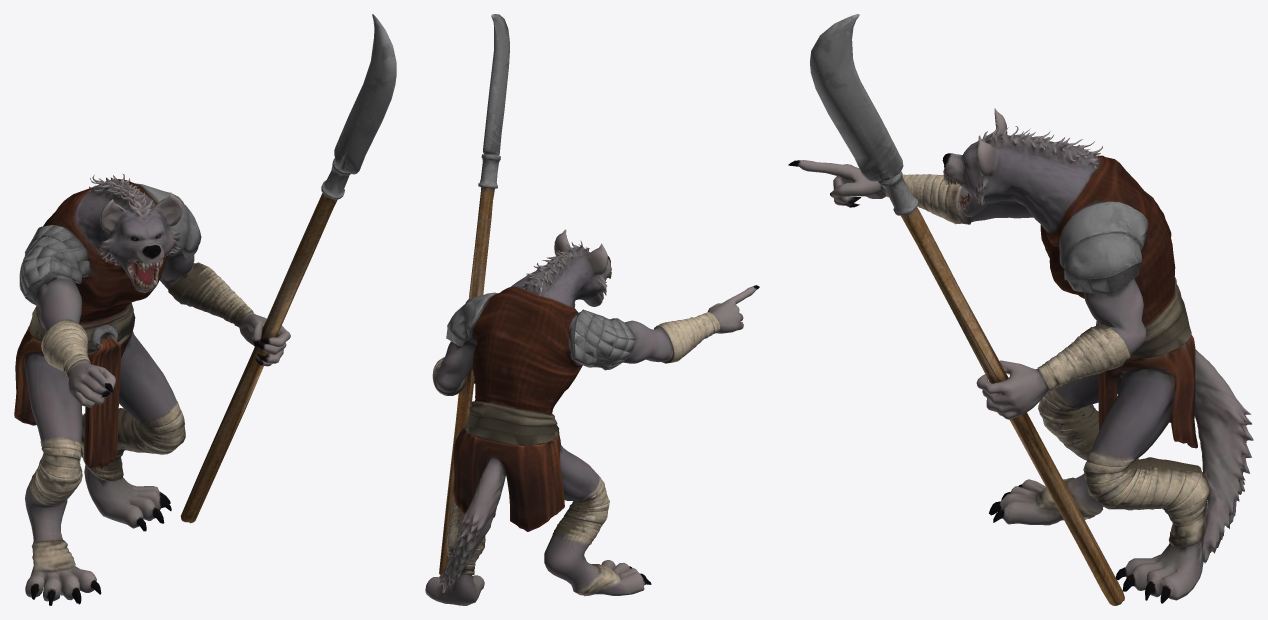
Rendered from MZ4250 - Gnoll Pack Lord.glb.
3 renders of one model, left to right at view 1: azimuth 30°, elevation 25°; view 2: azimuth 150°, elevation 25°; view 3: azimuth 270°, elevation 25°, orthographic. The views are drawn at different scales.
Visible parts, largest first — view 1: Gnoll Pack Lord_low.001; view 2: Gnoll Pack Lord_low.001; view 3: Gnoll Pack Lord_low.001.
Part boxes in pixels (box(x1,y1,x2,y2)): Gnoll Pack Lord_low.001: box(14, 14, 396, 605); Gnoll Pack Lord_low.001: box(425, 14, 759, 605); Gnoll Pack Lord_low.001: box(788, 14, 1253, 605).
Bounding box in the file's own units: 2.5 × 4.49 × 3.04.
Materials: 1 (1 with a texture image).
